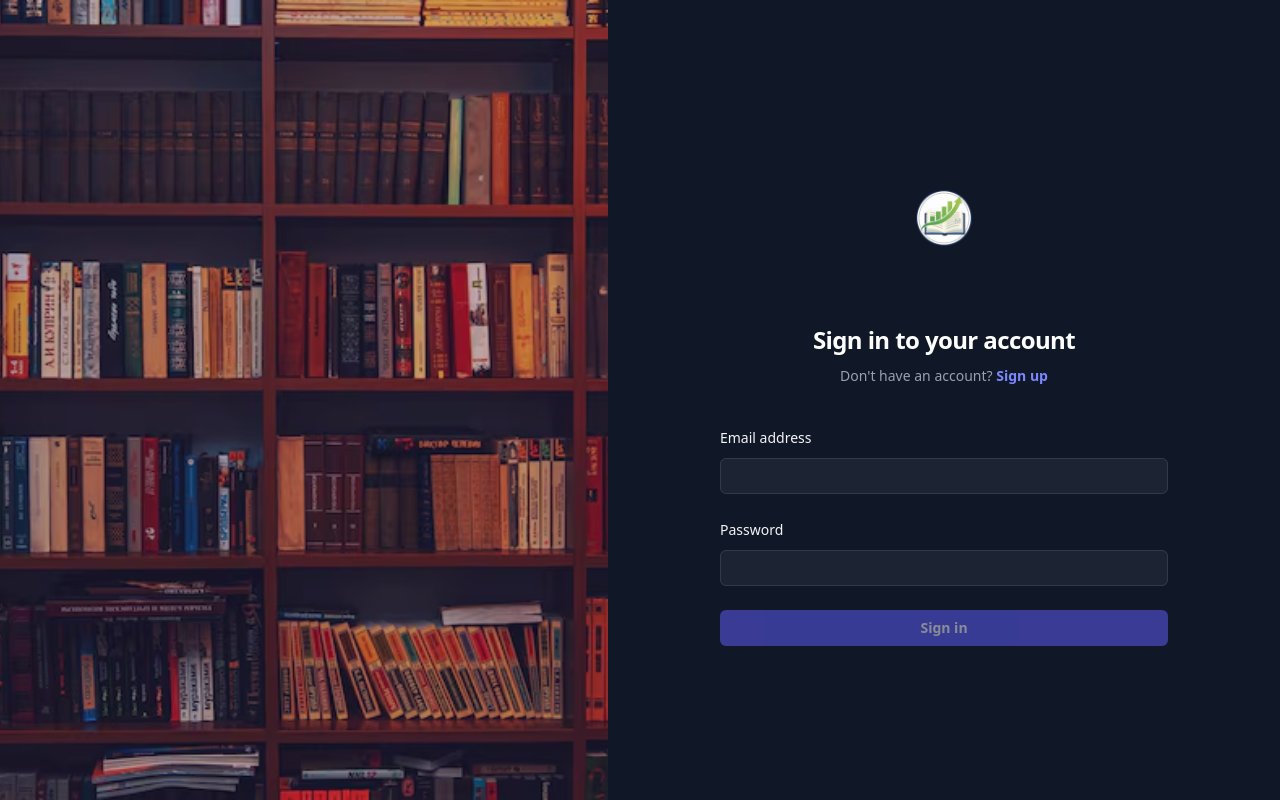
it: SignIn › should show error in toast on 401 authentication failure
Clear the field with test id "form-input-email" at (944, 476), box [720, 458, 1168, 494]
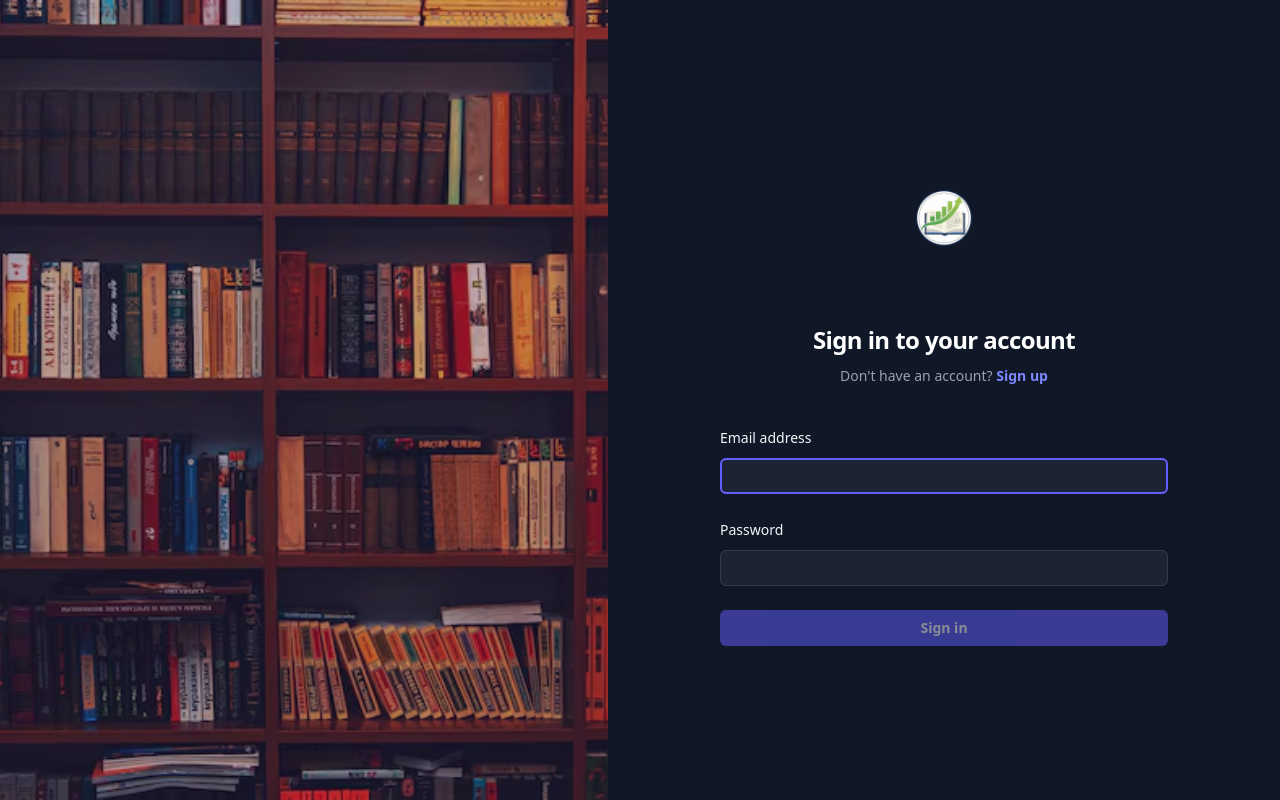
Clear the password field with test id "form-input-password" at (944, 568), box [720, 550, 1168, 586]
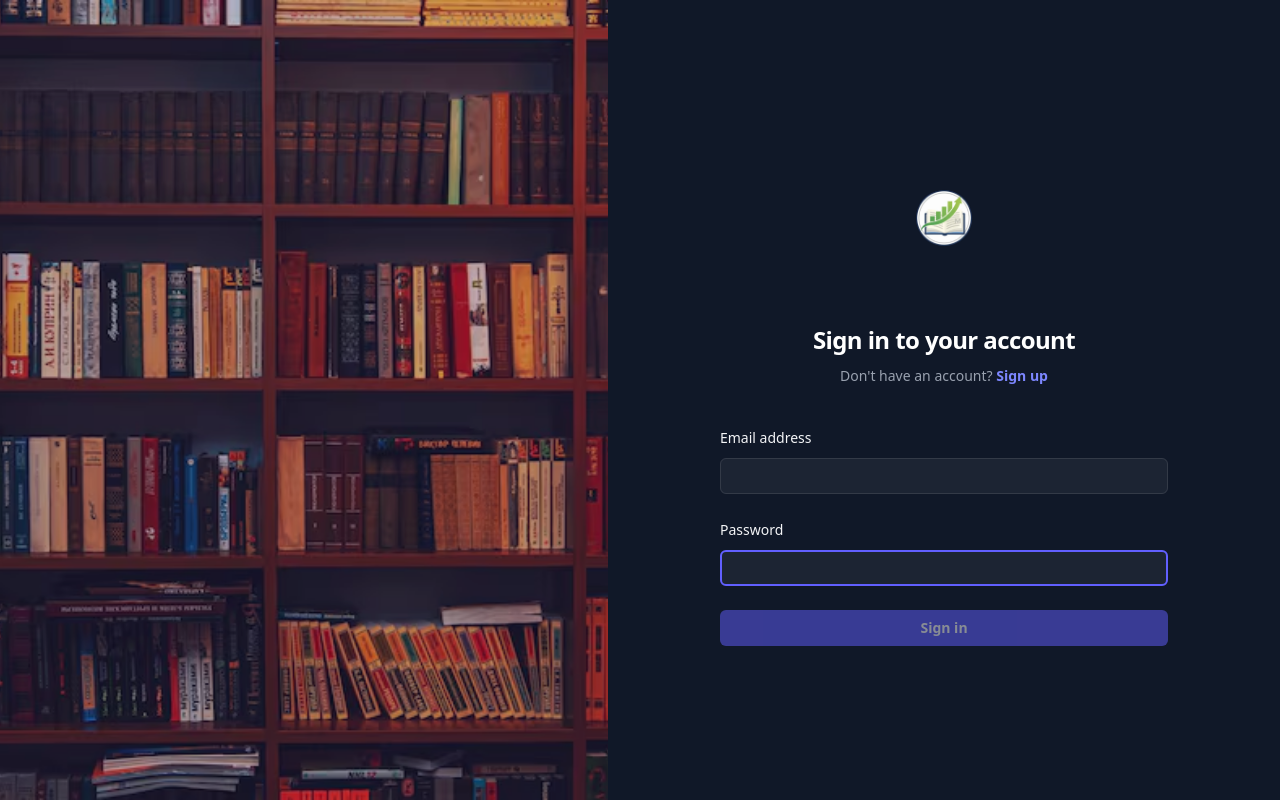
Type "wrong@example.com" into the field with test id "form-input-email" at (944, 476), box [720, 458, 1168, 494]
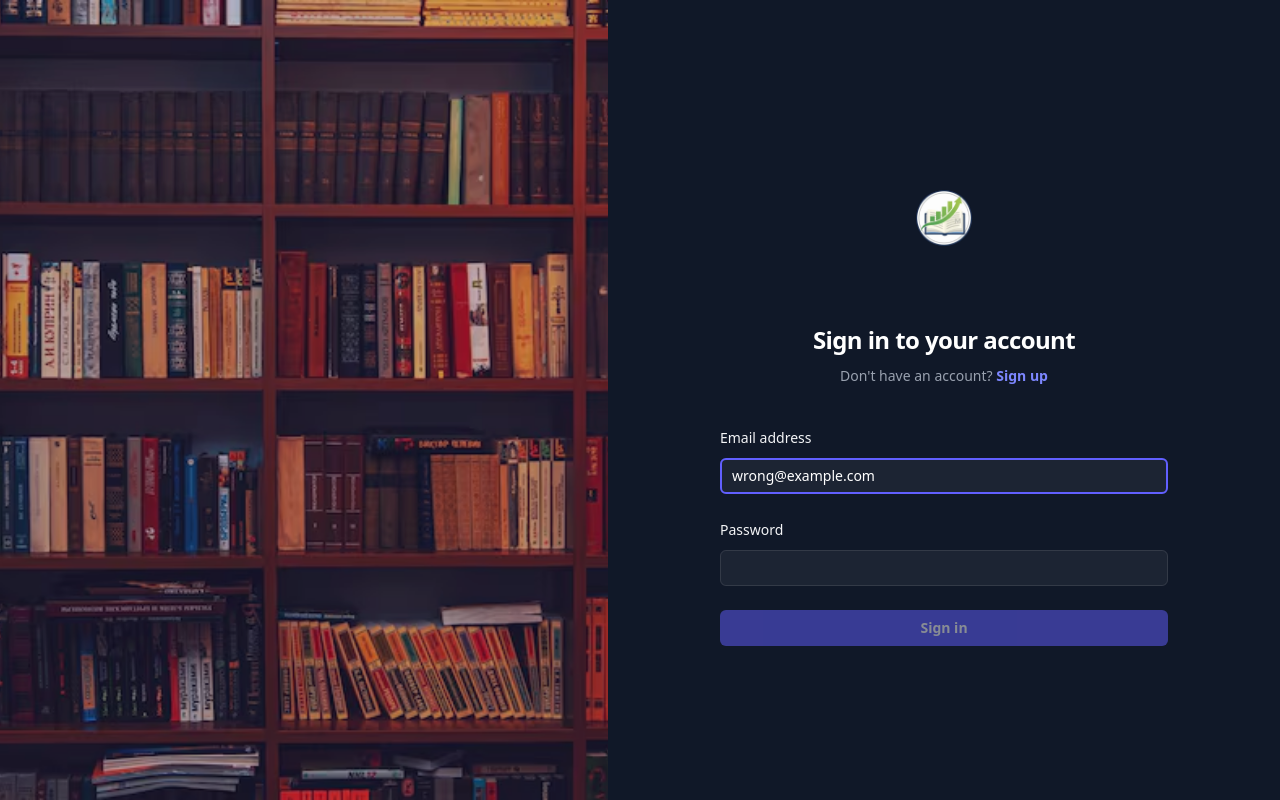
Type "wrongpassword" into the password field with test id "form-input-password" at (944, 568), box [720, 550, 1168, 586]
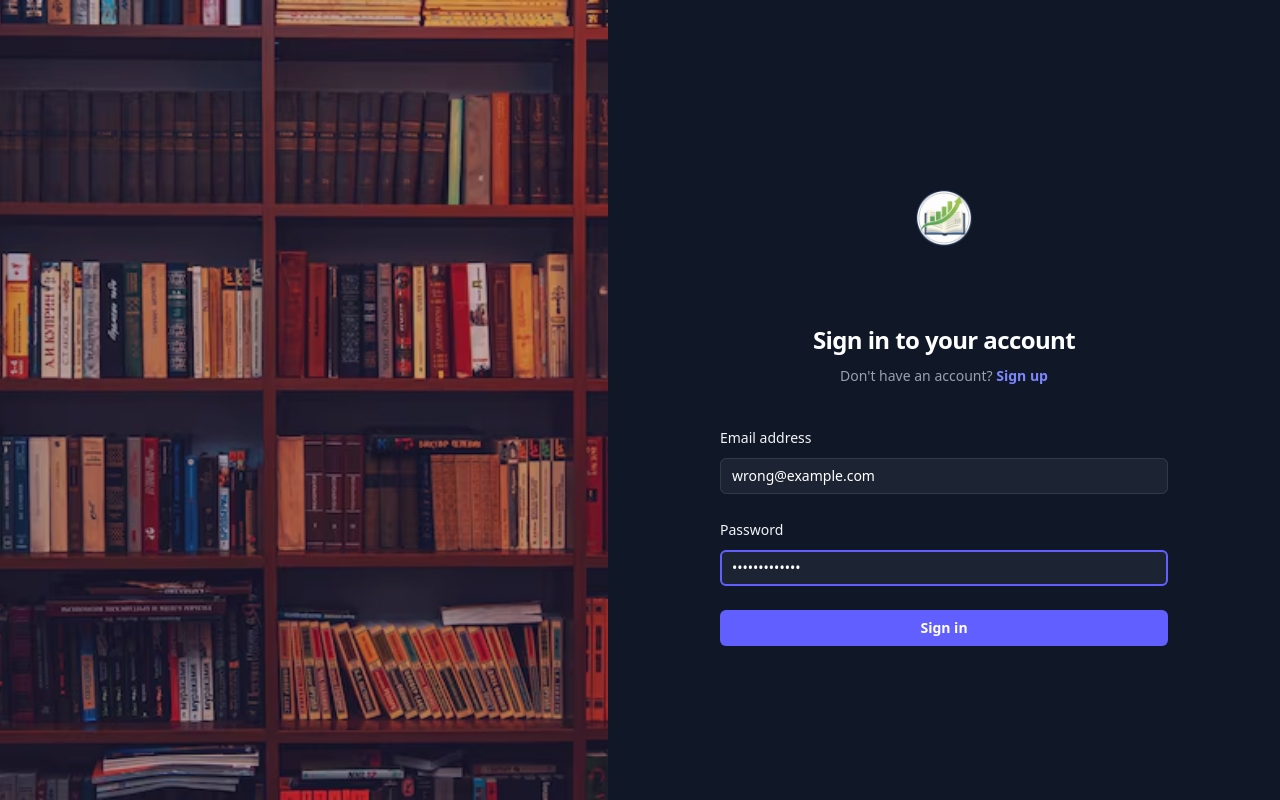
Click the button with test id "signin-submit-button" at (944, 628), box [720, 610, 1168, 646]
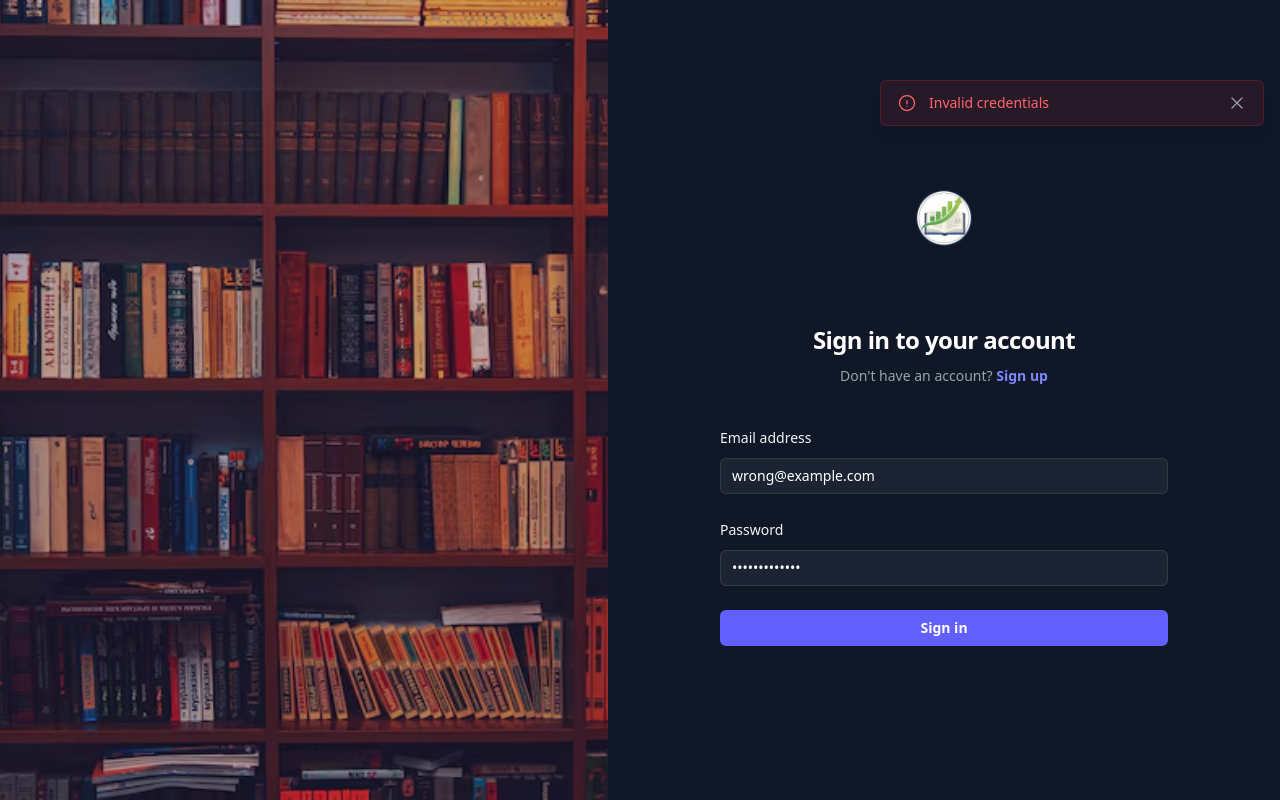
Check: the message "Invalid credentials" is shown, box [880, 80, 1264, 126]
Check: the text "Invalid credentials" is shown, box [929, 93, 1049, 112]
